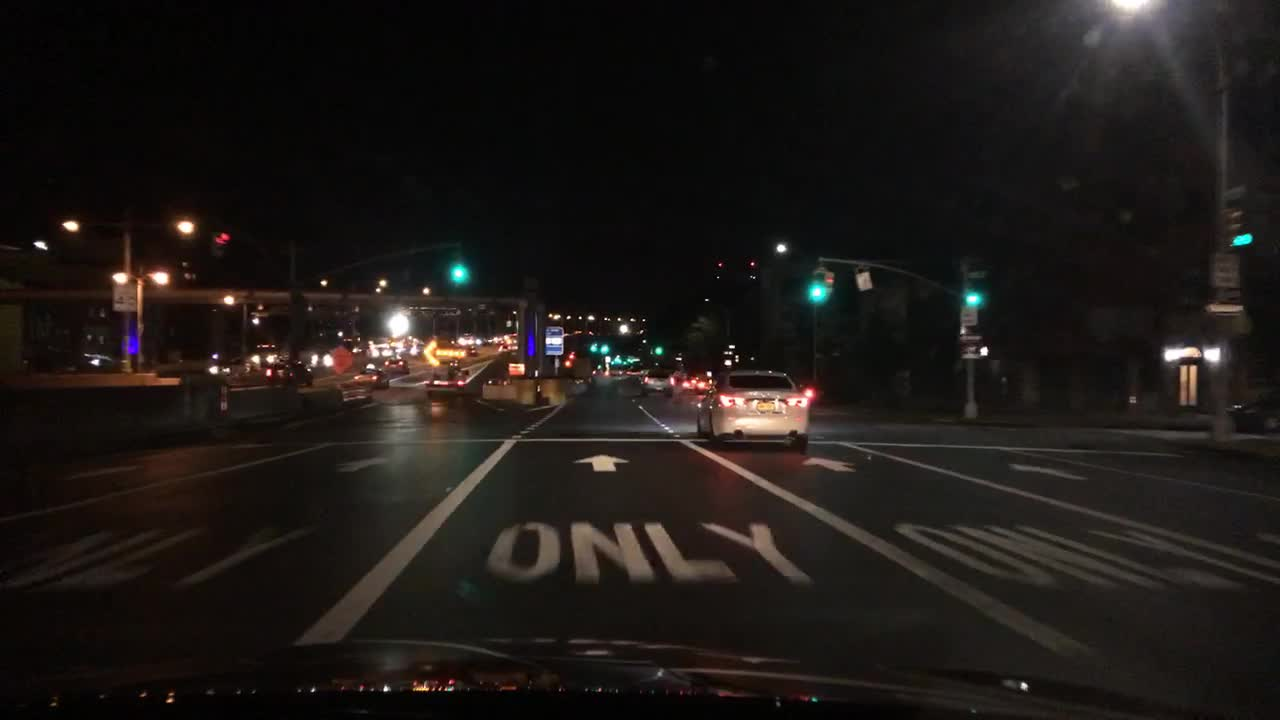car: (698, 366, 811, 448), (22, 350, 118, 376), (1227, 394, 1277, 433), (260, 359, 312, 386), (425, 369, 466, 398), (638, 365, 675, 397), (354, 368, 391, 389), (311, 350, 334, 368), (383, 358, 410, 372), (698, 375, 714, 396), (681, 376, 696, 392), (466, 345, 477, 357)
traffic light: (806, 269, 831, 306), (449, 258, 467, 285), (965, 285, 984, 310), (1227, 231, 1254, 245), (975, 343, 990, 358), (651, 342, 663, 360), (600, 345, 608, 355), (589, 342, 596, 353)
traffic sign: (111, 281, 139, 314), (1211, 253, 1239, 285), (1206, 298, 1242, 318), (960, 305, 978, 325), (1224, 185, 1246, 199), (968, 270, 988, 279), (1228, 211, 1244, 219)
